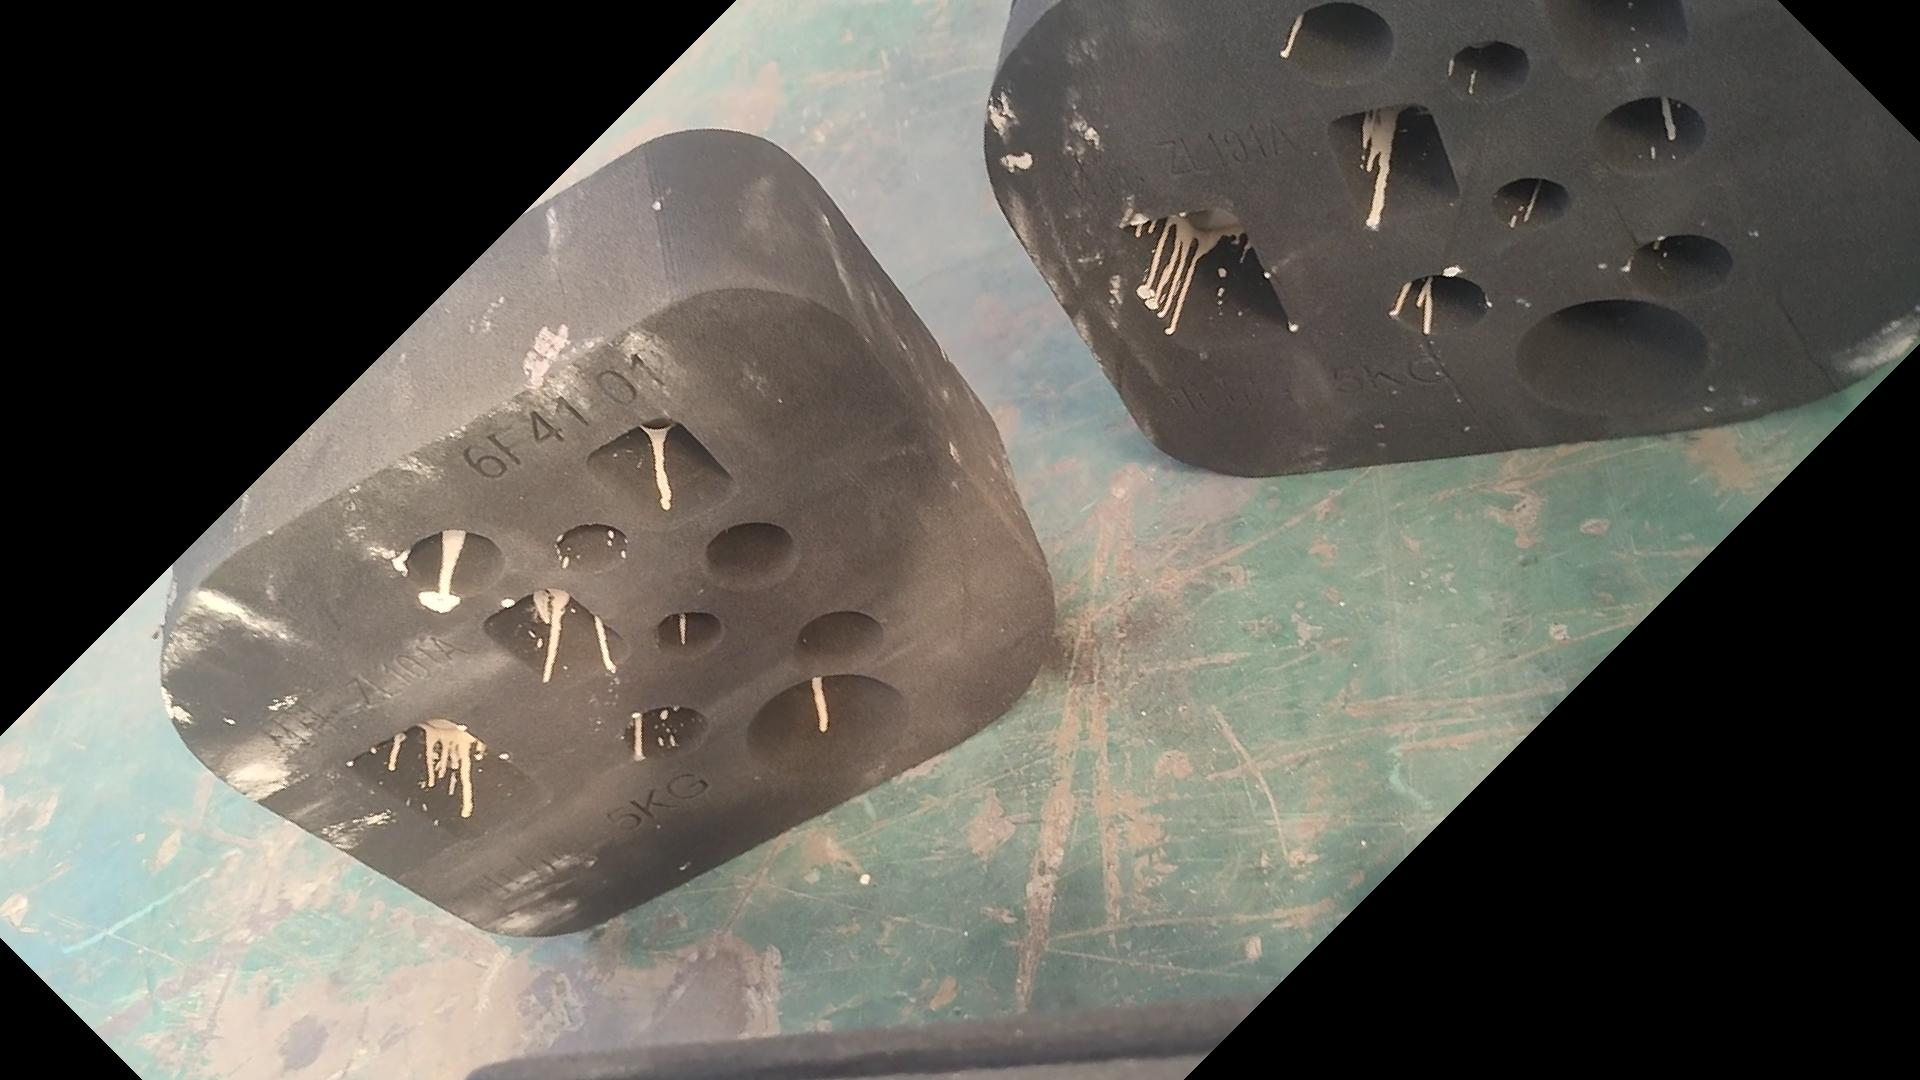pouring hole: (1513, 301, 1712, 417), (745, 675, 907, 783)
